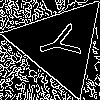Y: (35, 19, 91, 66)
